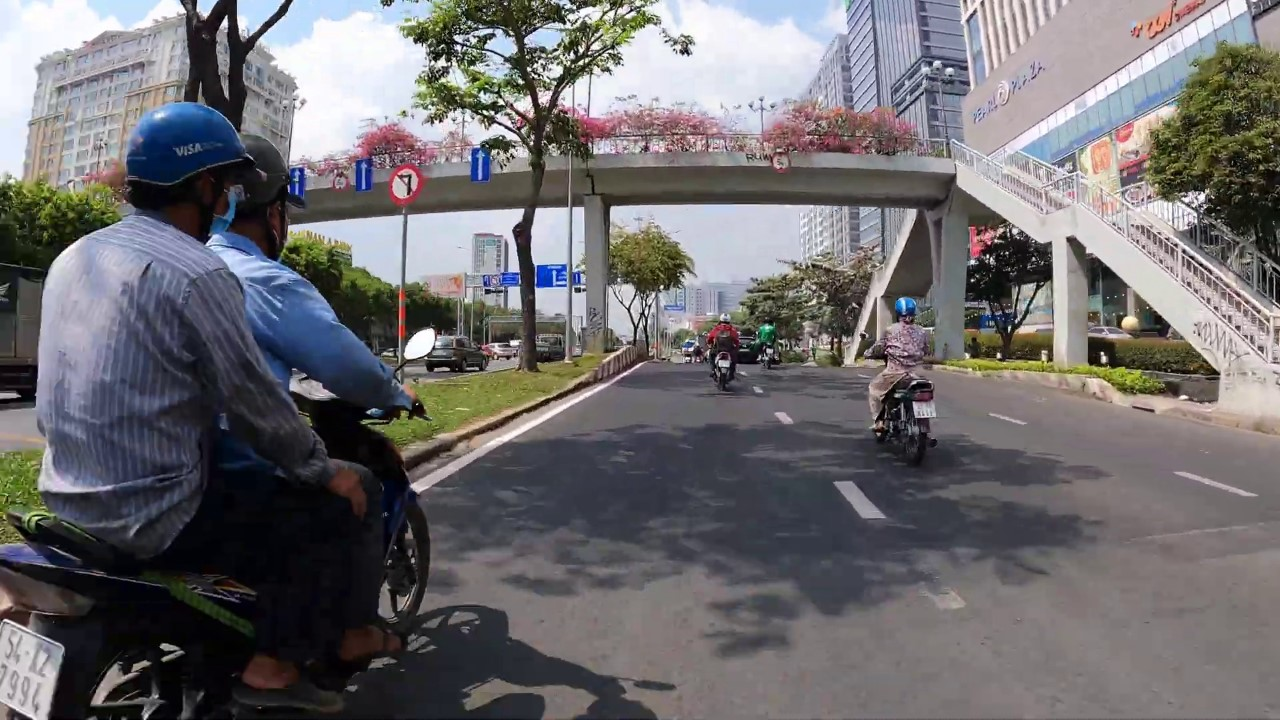cam_re_trai: (388, 163, 424, 206)
